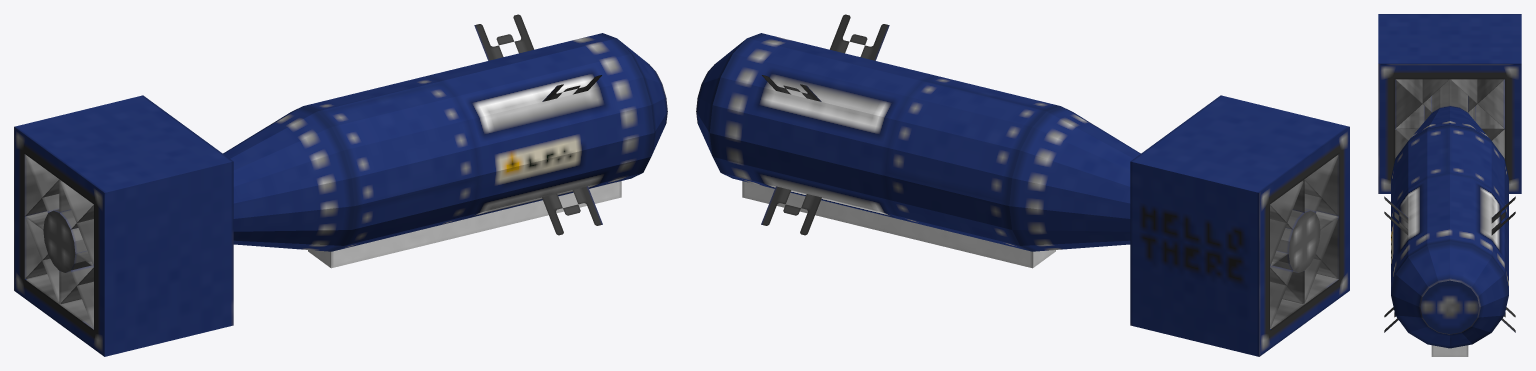
File: lil_boy.obj
The picture shows the model from 3 angles, left to right: view 1: azimuth 30°, elevation 25°; view 2: azimuth 150°, elevation 25°; view 3: azimuth 270°, elevation 25°; orthographic projection. The views are drawn at different scales.
Parts seen in each view (by area): view 1: Cylinder_Cylinder.002; view 2: Cylinder_Cylinder.002; view 3: Cylinder_Cylinder.002.
Boxes of the visible parts, x1=… form: Cylinder_Cylinder.002: x1=14, y1=14, x2=667, y2=356; Cylinder_Cylinder.002: x1=696, y1=14, x2=1349, y2=356; Cylinder_Cylinder.002: x1=1378, y1=14, x2=1521, y2=356.
Size of the model in its own units: 3.2 by 0.85 by 0.85.
